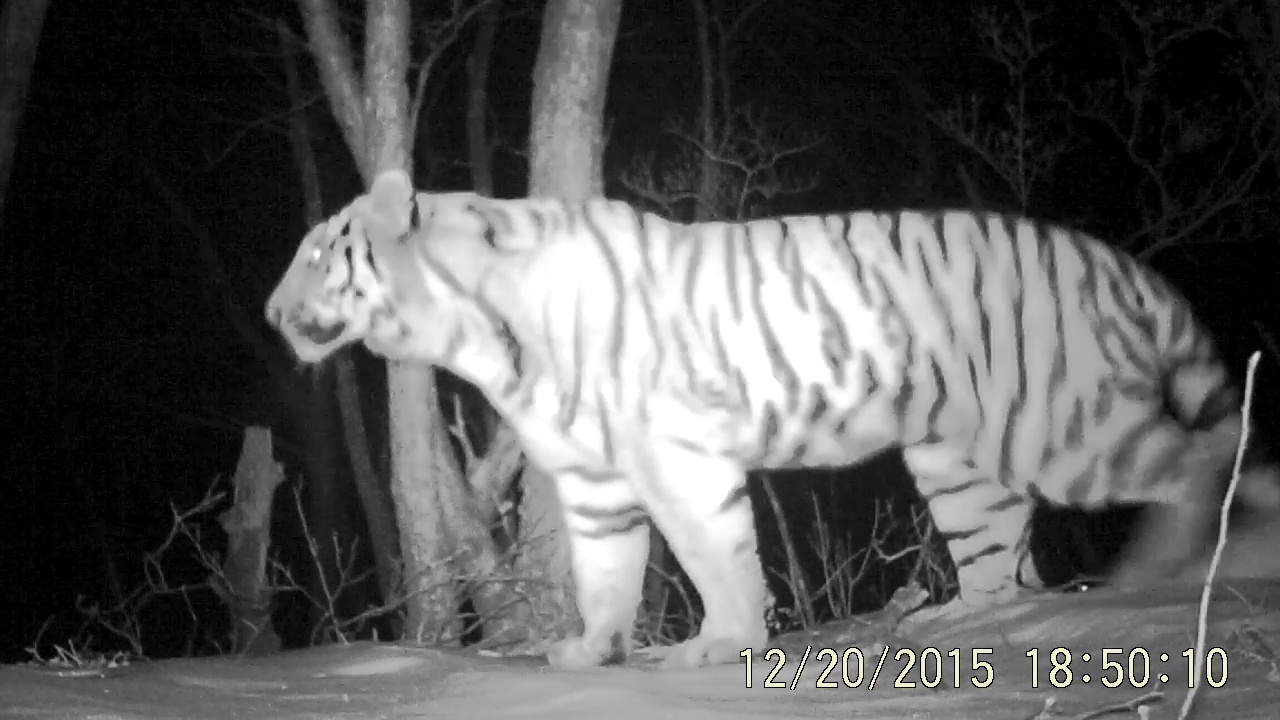Tiger: (219, 130, 1280, 697)
